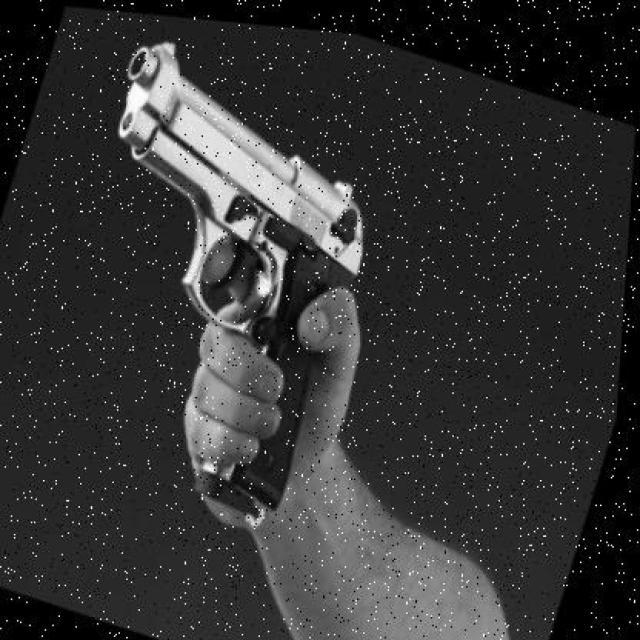weapon: (117, 41, 371, 524)
